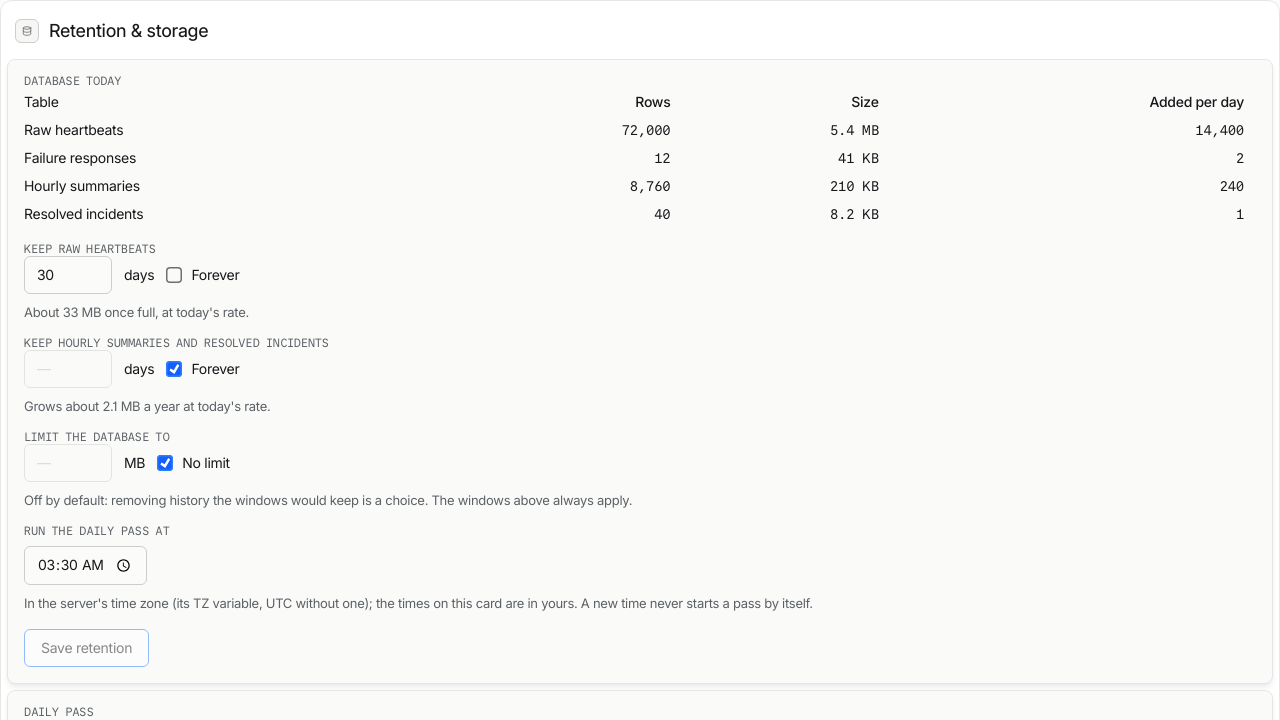
it: says what a shorter window removes before it is saved
The width and height of the screenshot is (1280, 720).
Replace the text in the number field named "Keep raw heartbeats, in days" with "7". click: (68, 275)
box: left=24, top=256, right=112, bottom=294
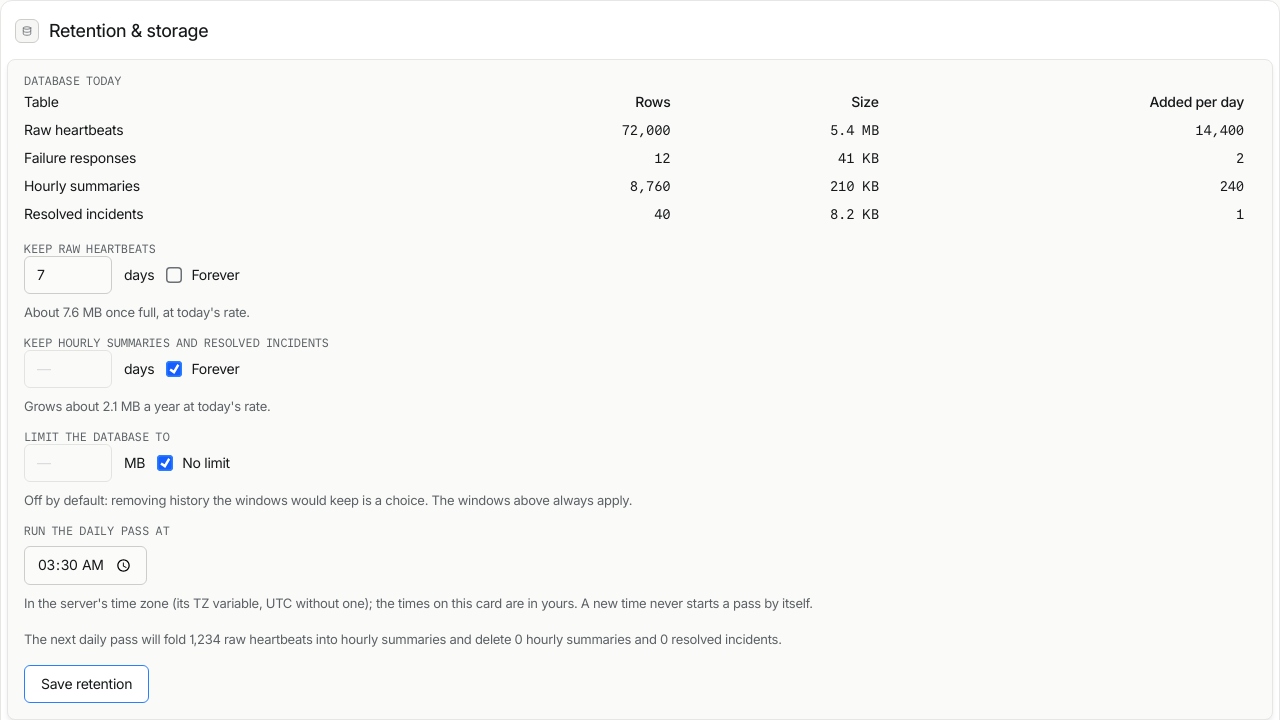
Now the text "fold 1,234 raw heartbeats into hourly summaries" is shown, box left=24, top=631, right=782, bottom=647
